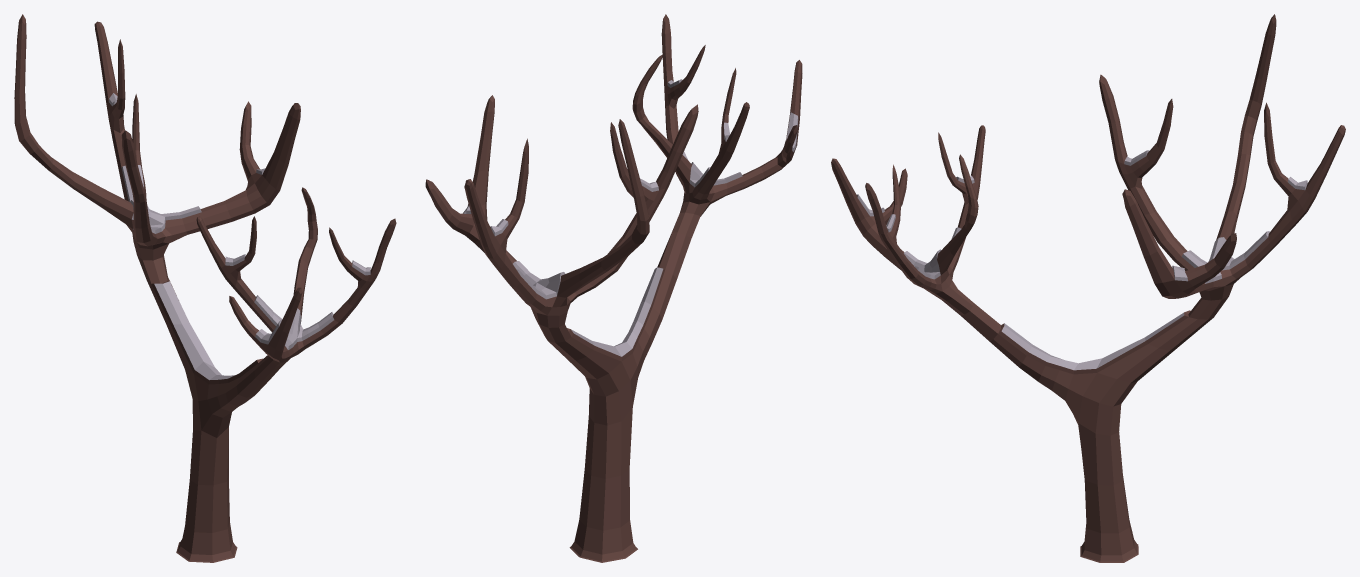
Rendered from CommonTree_Dead_Snow_1.gltf.
3 renders of one model, left to right at view 1: azimuth 30°, elevation 25°; view 2: azimuth 150°, elevation 25°; view 3: azimuth 270°, elevation 25°, orthographic. The views are drawn at different scales.
Parts seen in each view (by area): view 1: CommonTree_Dead_Snow_1; view 2: CommonTree_Dead_Snow_1; view 3: CommonTree_Dead_Snow_1.
Part boxes in pixels (left/top/right/bottom): CommonTree_Dead_Snow_1: left=14, top=14, right=396, bottom=562; CommonTree_Dead_Snow_1: left=425, top=14, right=802, bottom=562; CommonTree_Dead_Snow_1: left=831, top=14, right=1345, bottom=562.
Size of the model in its own units: 1.04 by 2.22 by 2.12.
